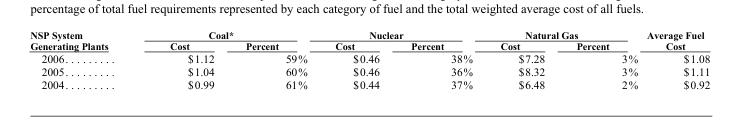table: (29, 28, 709, 90)
table column: (29, 28, 138, 90), (138, 28, 229, 90), (229, 28, 320, 90), (394, 28, 485, 90), (559, 28, 641, 90), (320, 28, 394, 90), (485, 28, 559, 90), (641, 28, 709, 90)
table column header: (29, 28, 709, 51)
table row: (29, 51, 709, 64), (29, 64, 709, 77), (29, 77, 709, 90), (29, 39, 709, 51), (29, 28, 709, 39)
table spanning cell: (29, 28, 138, 51), (138, 28, 320, 39), (320, 28, 485, 39), (485, 28, 641, 39), (641, 28, 709, 51)
